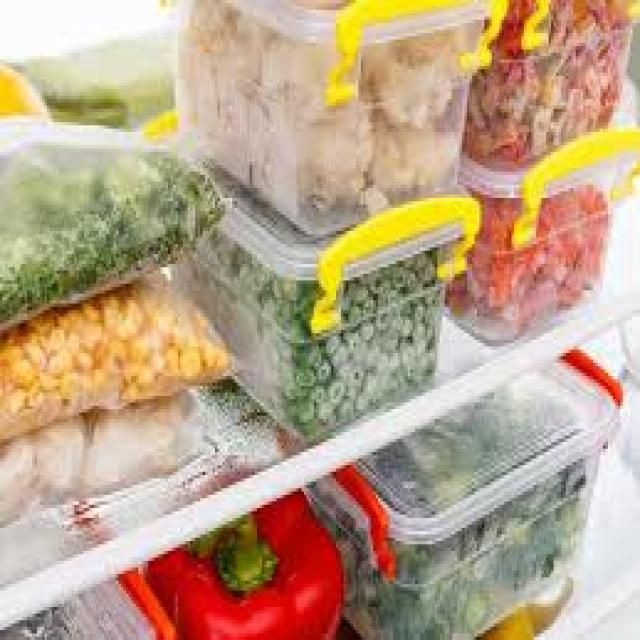biodegradable: (178, 20, 358, 204), (398, 465, 576, 637), (146, 482, 341, 637), (3, 152, 203, 300), (465, 7, 625, 159), (5, 284, 205, 399), (183, 234, 306, 416), (296, 268, 435, 413), (378, 383, 563, 488), (349, 40, 460, 188), (89, 393, 198, 485), (341, 521, 408, 637), (0, 412, 86, 501), (479, 604, 534, 637)
plastic: (304, 343, 620, 637), (183, 142, 479, 432), (173, 0, 502, 231), (0, 135, 230, 327), (0, 264, 235, 439), (440, 162, 637, 343), (457, 0, 638, 172), (0, 386, 220, 511), (0, 23, 175, 132), (0, 567, 173, 637)
